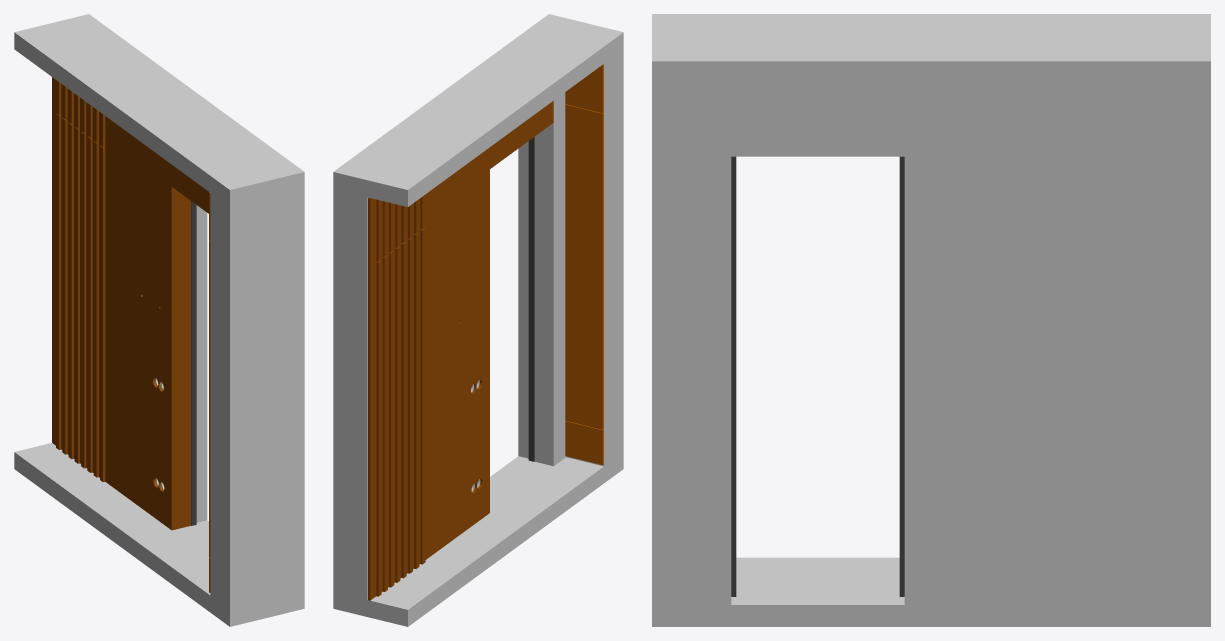
Rendered from ПанельСБ.obj.
The picture shows the model from 3 angles, left to right: view 1: azimuth 30°, elevation 25°; view 2: azimuth 150°, elevation 25°; view 3: azimuth 270°, elevation 25°; orthographic projection. The views are drawn at different scales.
Bounding box in the file's own units: 0.55 × 3.07 × 2.75.
